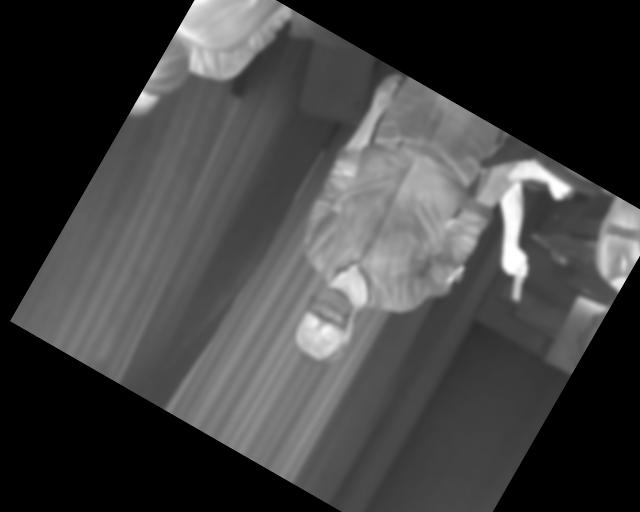face: (281, 278, 371, 375)
